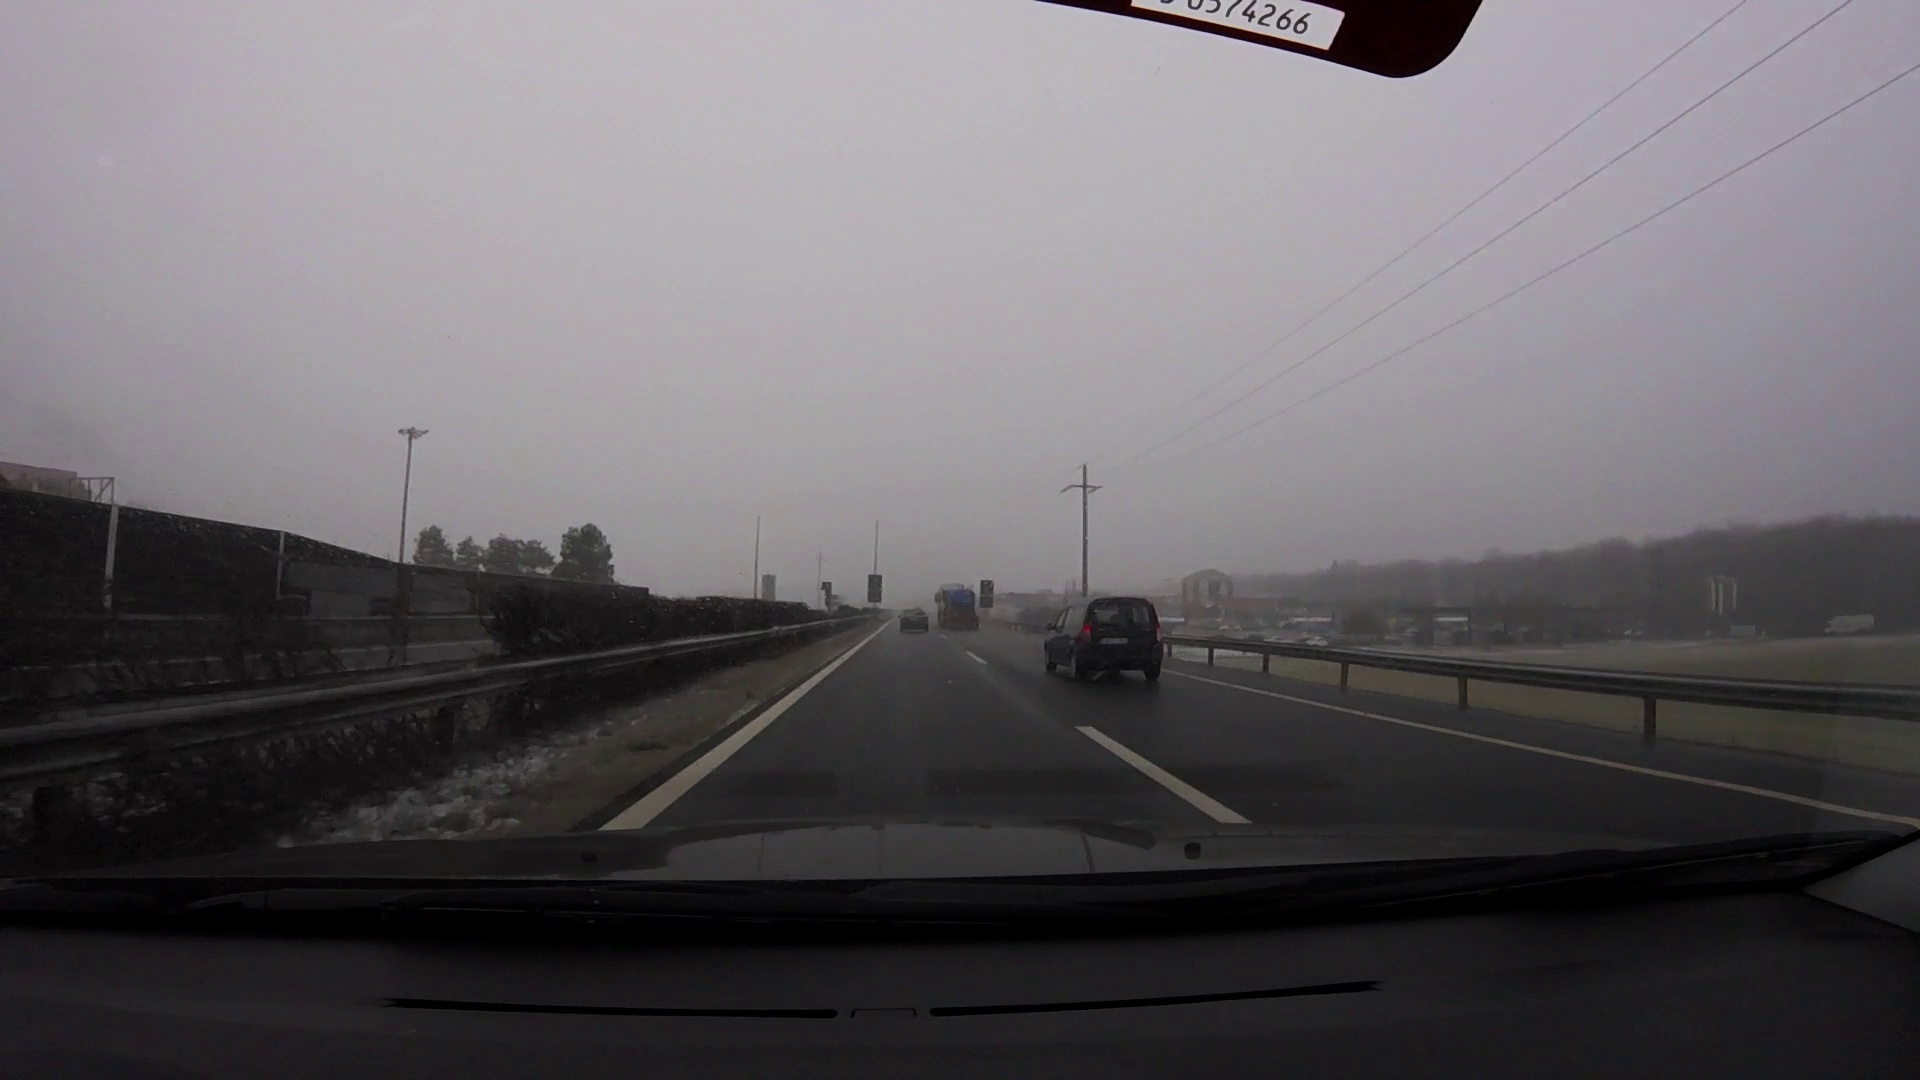radar: (820, 580, 835, 613)
